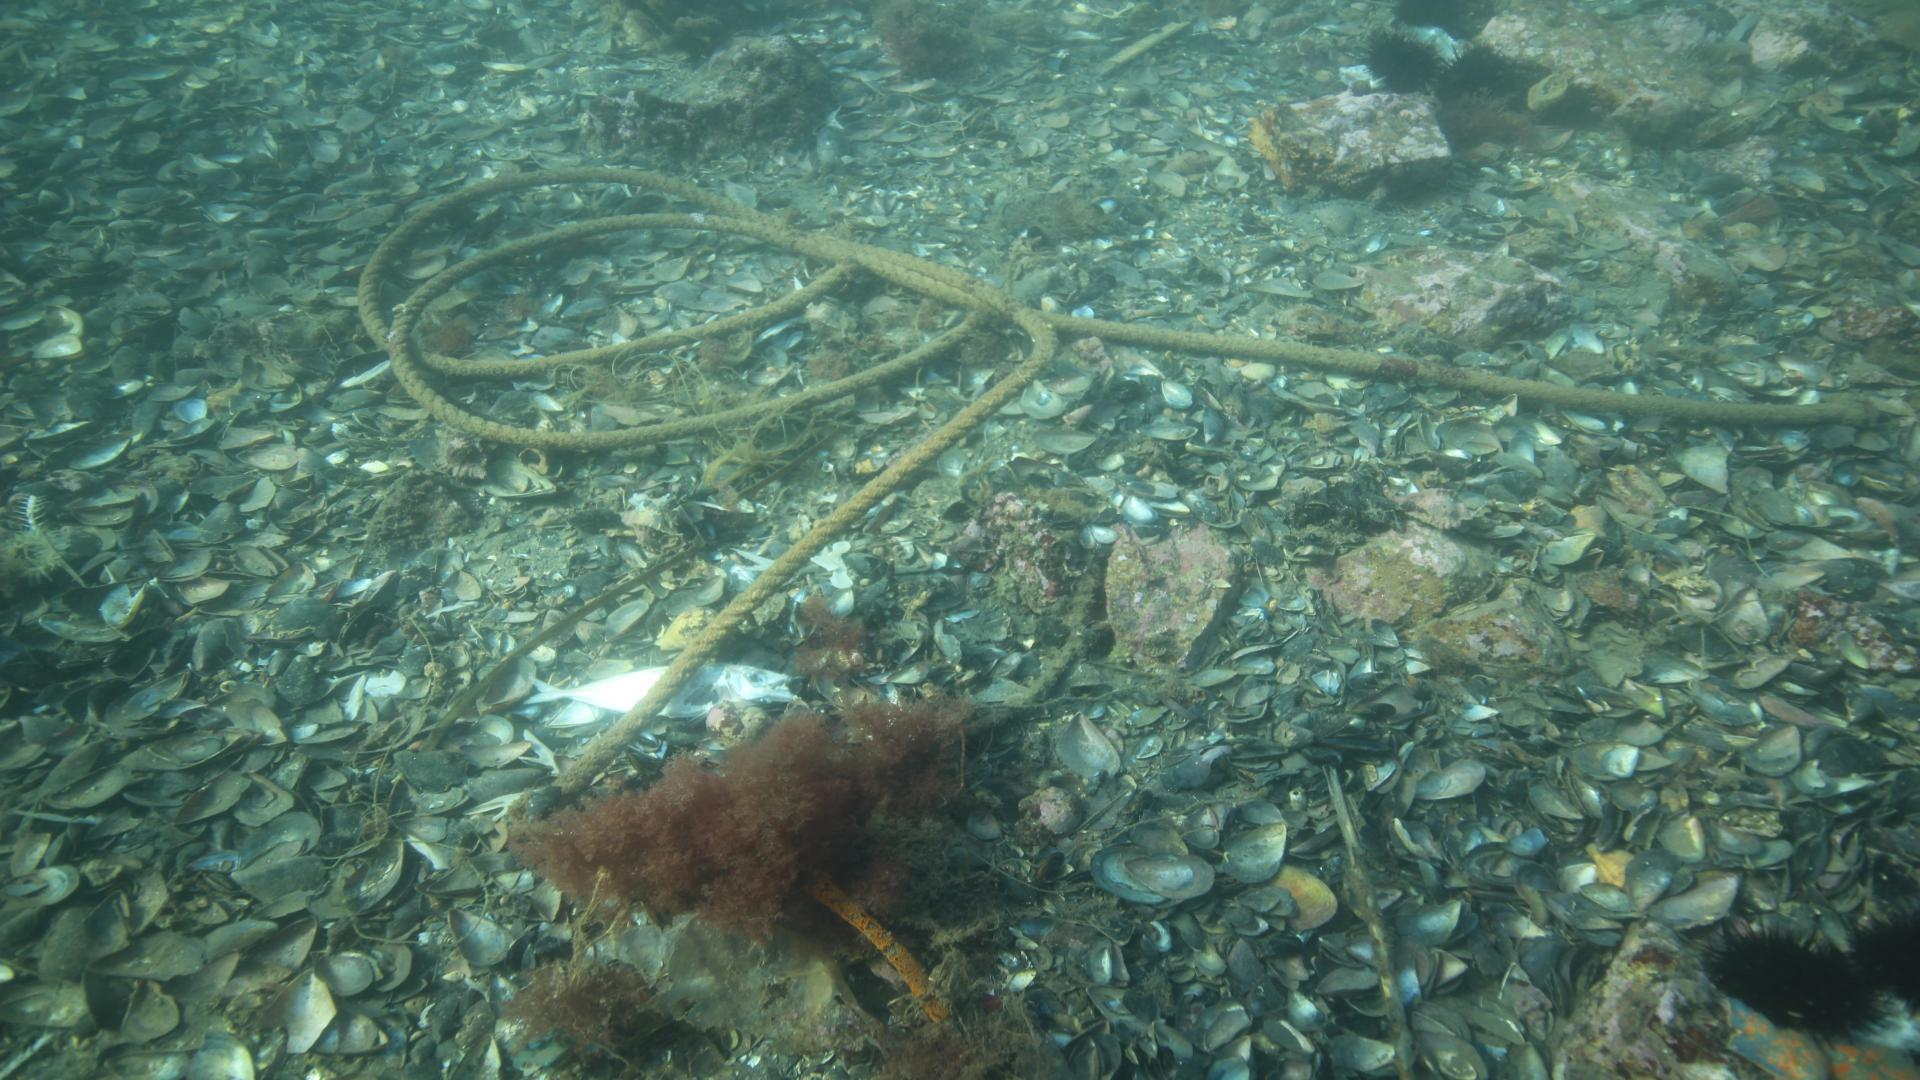bundle of ropes: (353, 156, 1883, 789)
